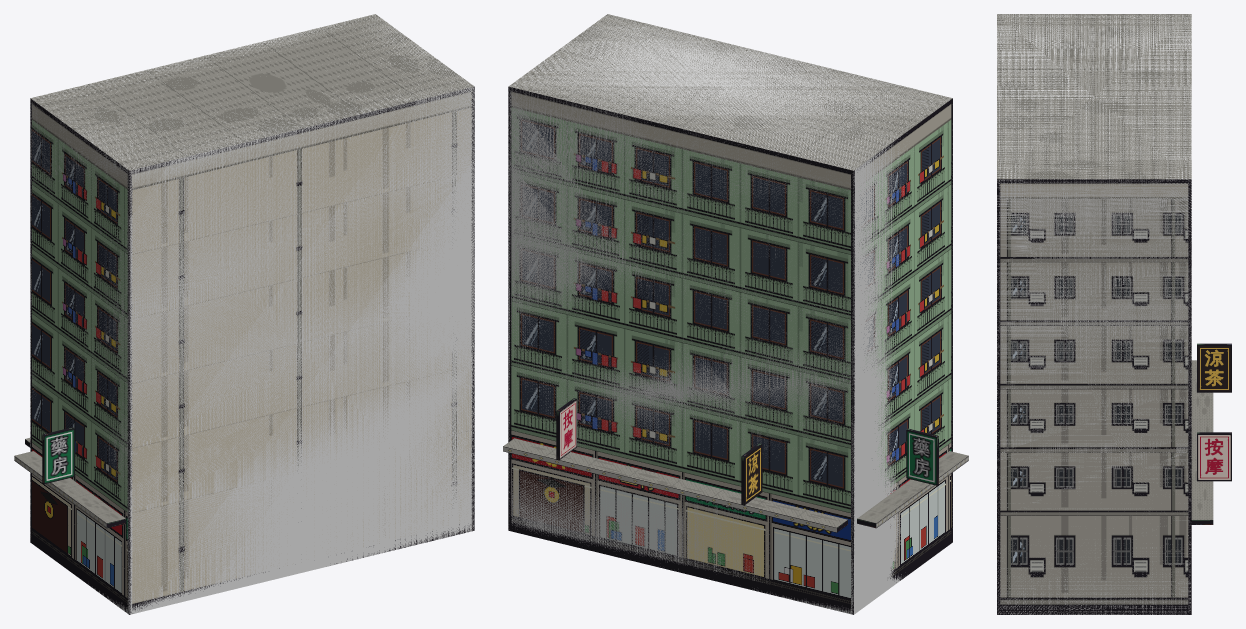
3 renders of one model, left to right at view 1: azimuth 30°, elevation 25°; view 2: azimuth 150°, elevation 25°; view 3: azimuth 270°, elevation 25°, orthographic.
Parts seen in each view (by area): view 1: 19D-W02, COL_19D-W02_0; view 2: 19D-W02, COL_19D-W02_0; view 3: 19D-W02, COL_19D-W02_0.
Part boxes in pixels (box(x1,y1,x2,y2)): 19D-W02: box(14, 14, 474, 614); COL_19D-W02_0: box(30, 14, 474, 614); 19D-W02: box(503, 14, 968, 614); COL_19D-W02_0: box(508, 14, 952, 614); 19D-W02: box(997, 14, 1231, 614); COL_19D-W02_0: box(997, 14, 1191, 614).
Bounding box in the file's own units: 19.75 × 22 × 10.75.
Materials: 1 (1 with a texture image).
